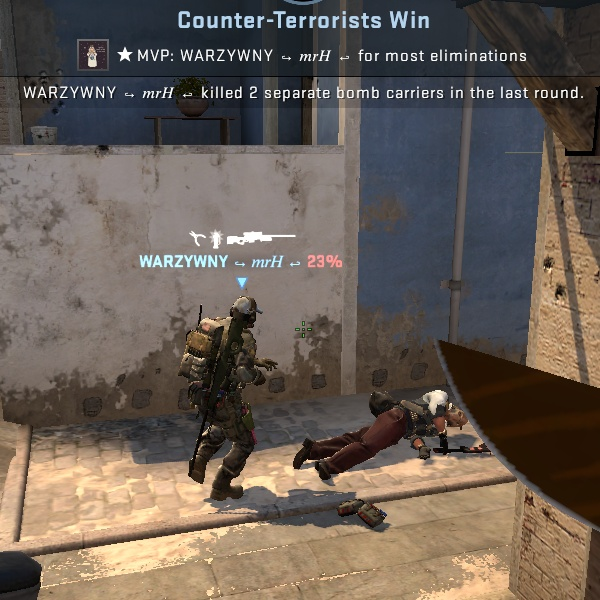ct_body: (168, 290, 287, 504)
ct_head: (224, 293, 263, 334)
